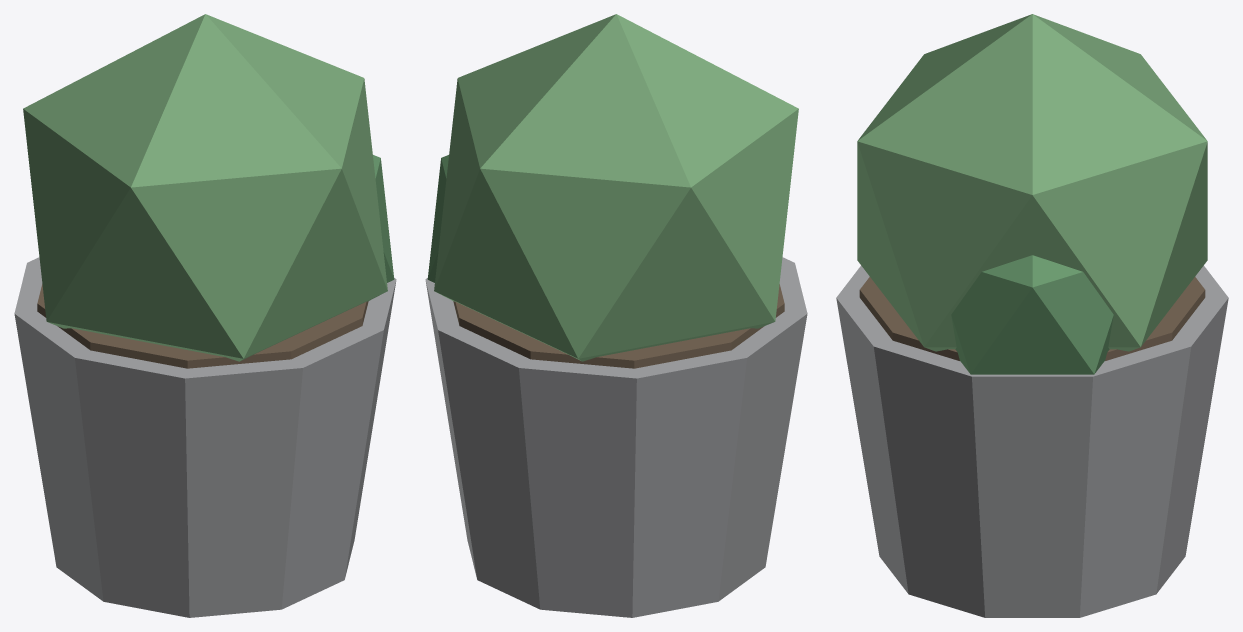
The model's file is pla_vaso_g1.glb.
The picture shows the model from 3 angles, left to right: view 1: azimuth 30°, elevation 25°; view 2: azimuth 150°, elevation 25°; view 3: azimuth 270°, elevation 25°; orthographic projection.
Parts seen in each view (by area): view 1: PLA_VASO_G1_v01; view 2: PLA_VASO_G1_v01; view 3: PLA_VASO_G1_v01.
Part boxes in pixels (box(x1,y1,x2,y2)): PLA_VASO_G1_v01: box(14, 14, 396, 617); PLA_VASO_G1_v01: box(425, 14, 807, 617); PLA_VASO_G1_v01: box(836, 14, 1228, 617).
Size of the model in its own units: 0.4373 by 0.671 by 0.44.
